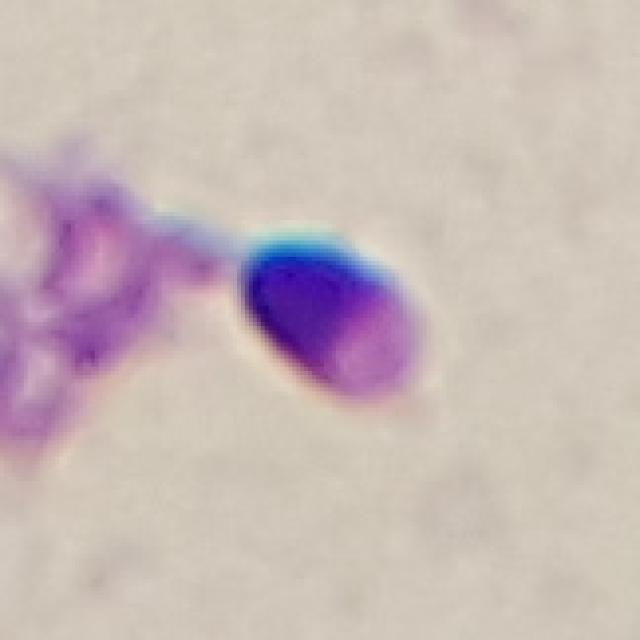normal sperm: (160, 220, 426, 403)
